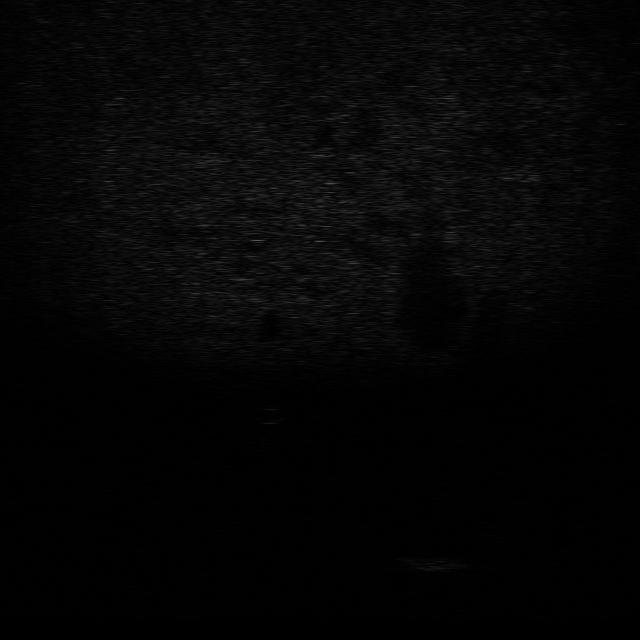ball: (252, 404, 288, 424)
metal bucket: (398, 552, 472, 574)
tyre: (459, 515, 510, 549)
